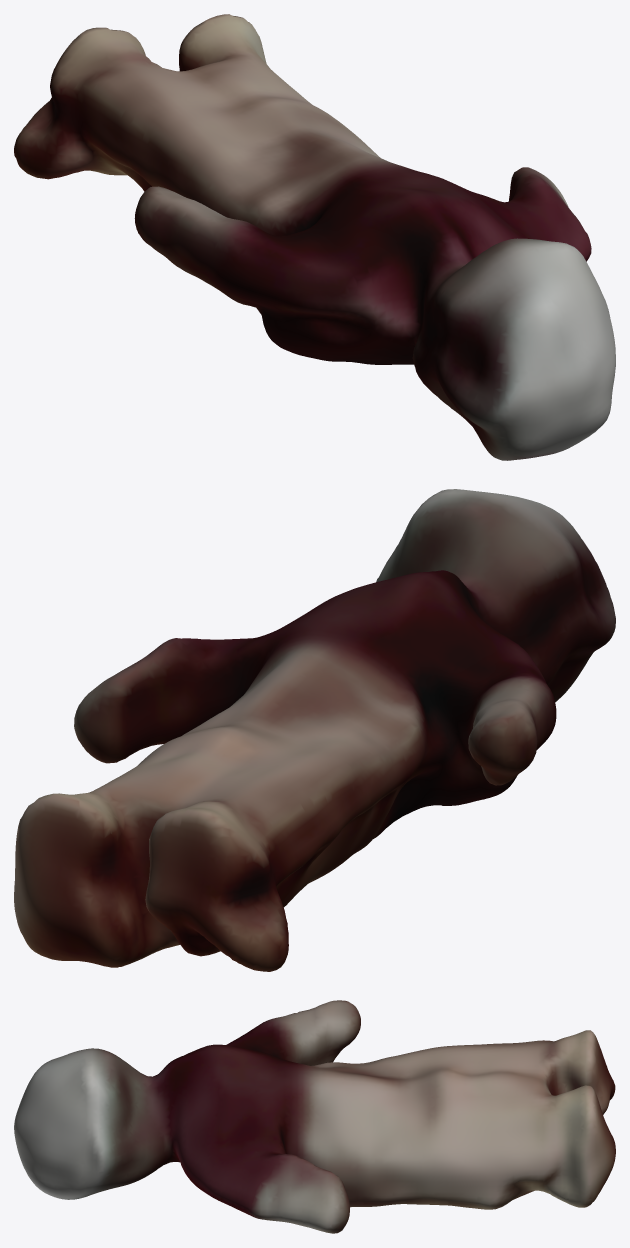
The model's file is grandmother.glb.
3 renders of one model, top to bottom at view 1: azimuth 30°, elevation 25°; view 2: azimuth 150°, elevation 25°; view 3: azimuth 270°, elevation 25°, orthographic. The views are drawn at different scales.
Bounding box in the file's own units: 0.5858 × 0.2682 × 0.9997.
